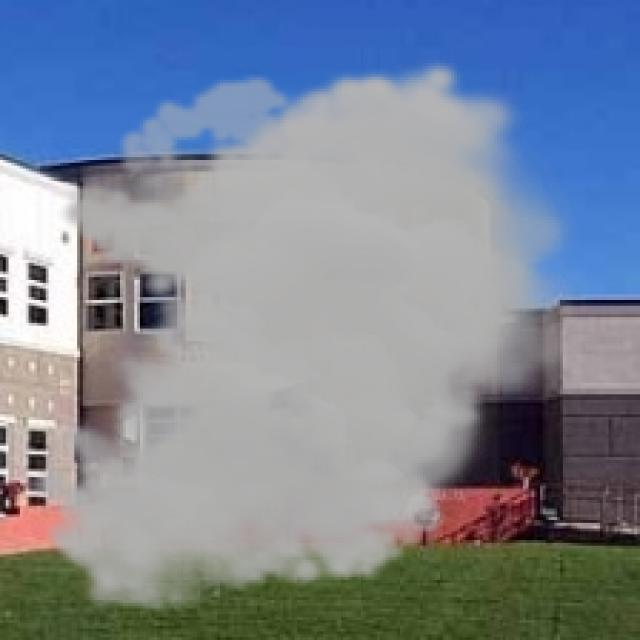smoke: (26, 57, 591, 614)
